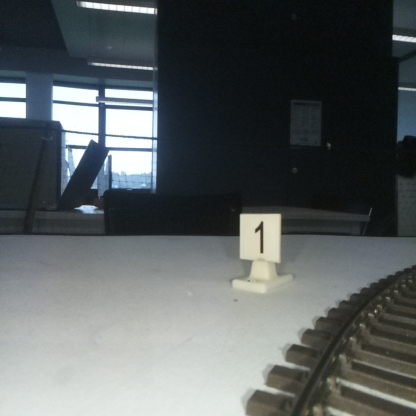white-stop-1: (240, 214, 281, 289)
